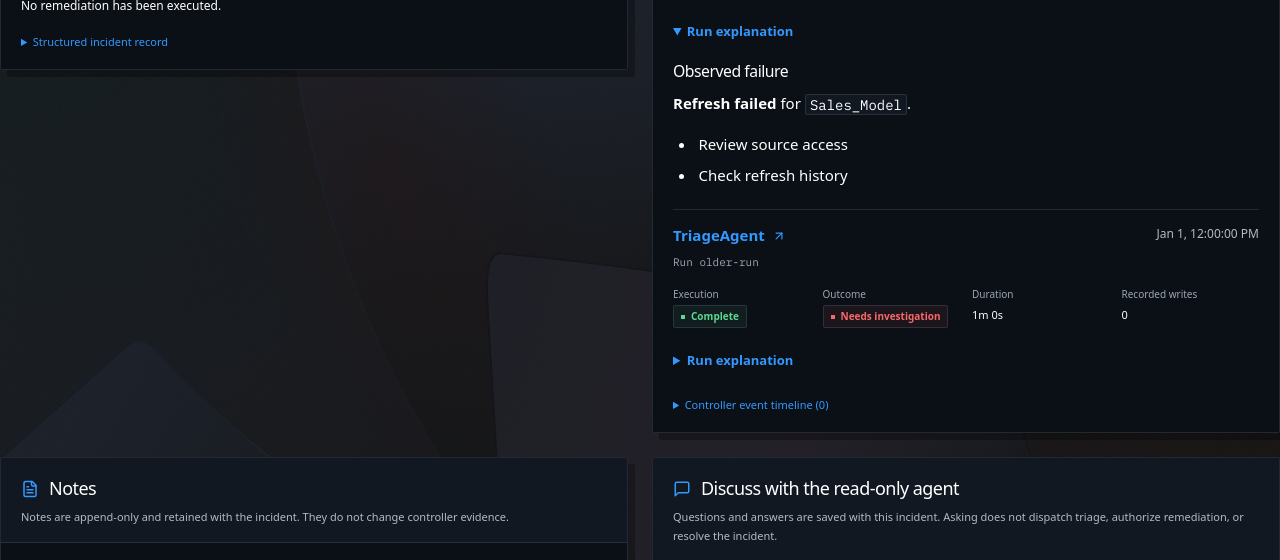
it: readable execution explanations › renders structured prose, gives runs meaningful labels, and preserves expansion during refresh
(page scrolled)
expect the button "Open run latest-run" does not show "latest-run": met
expect the heading "Observed failure" is shown: met, box [673,60,788,82]
Click the heading "Run explanation" below "older-run" at (740, 360), box [687,351,793,369]
(page scrolled)
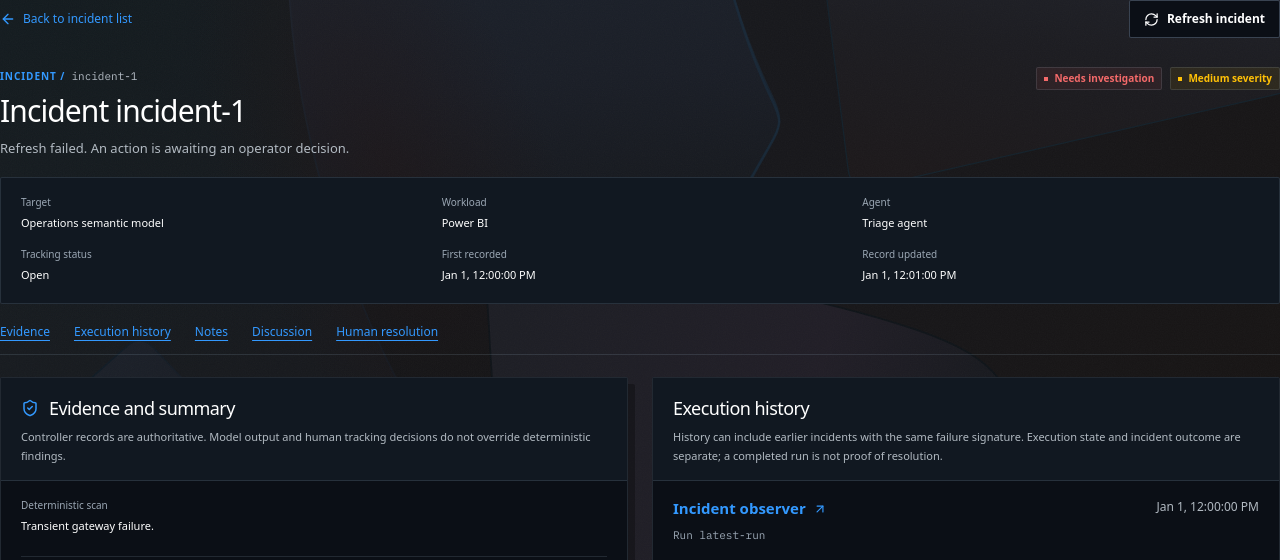
Click the button "Refresh incident" at (1204, 19), box [1129,0,1279,38]
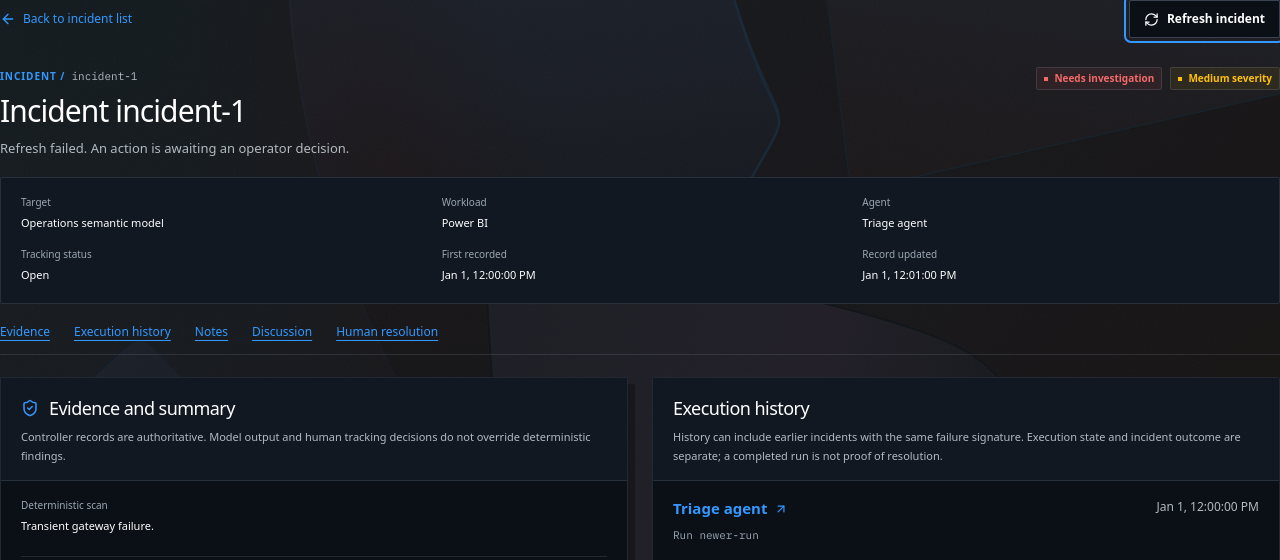
expect the button with aria-label "Open run newer-run" is shown: met, box [673,499,788,519]
